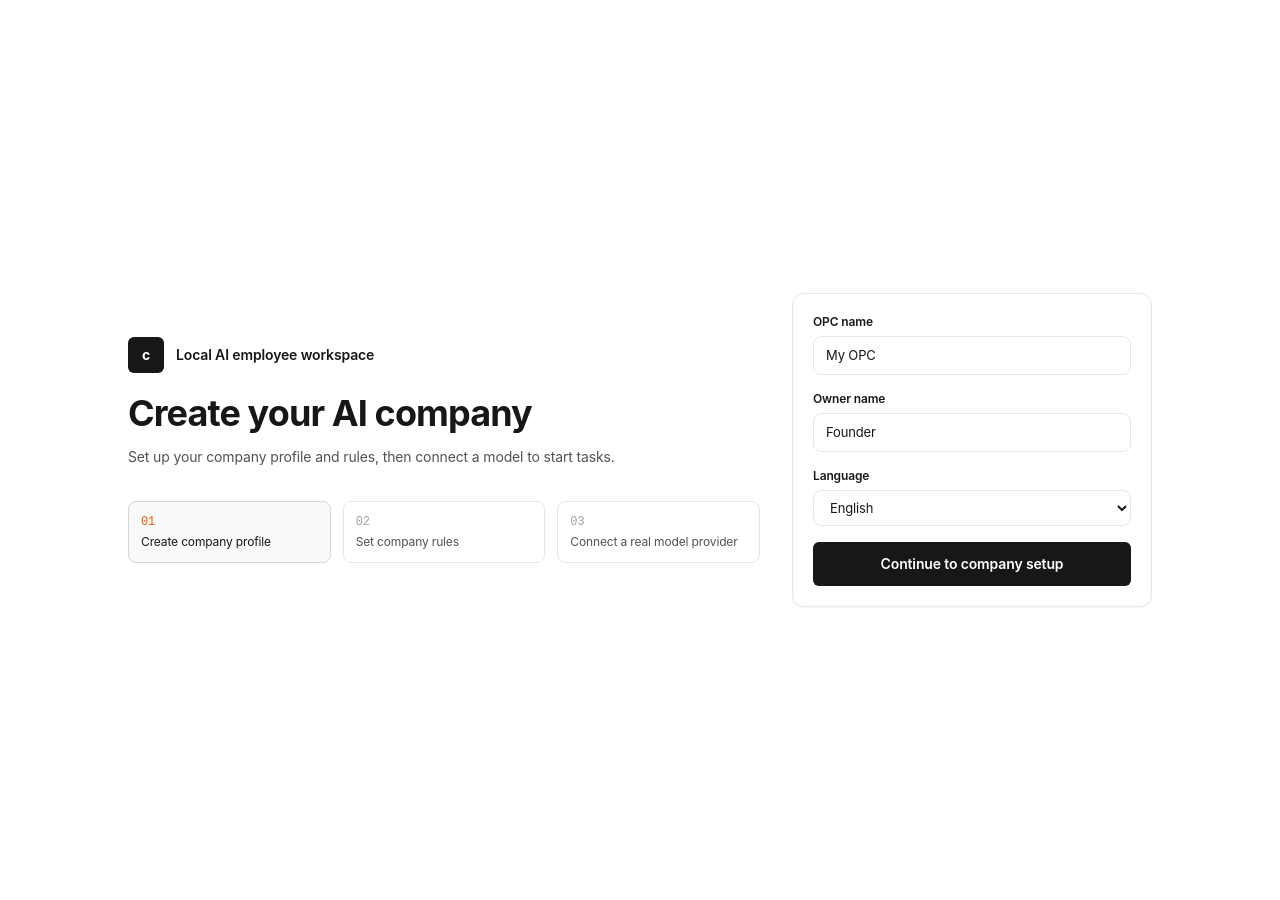
Desktop onboarding › allows company setup to finish before any employee exists
This screenshot has width=1280, height=900.
Click the button "Continue to company setup" at (972, 564), box [813, 542, 1131, 586]
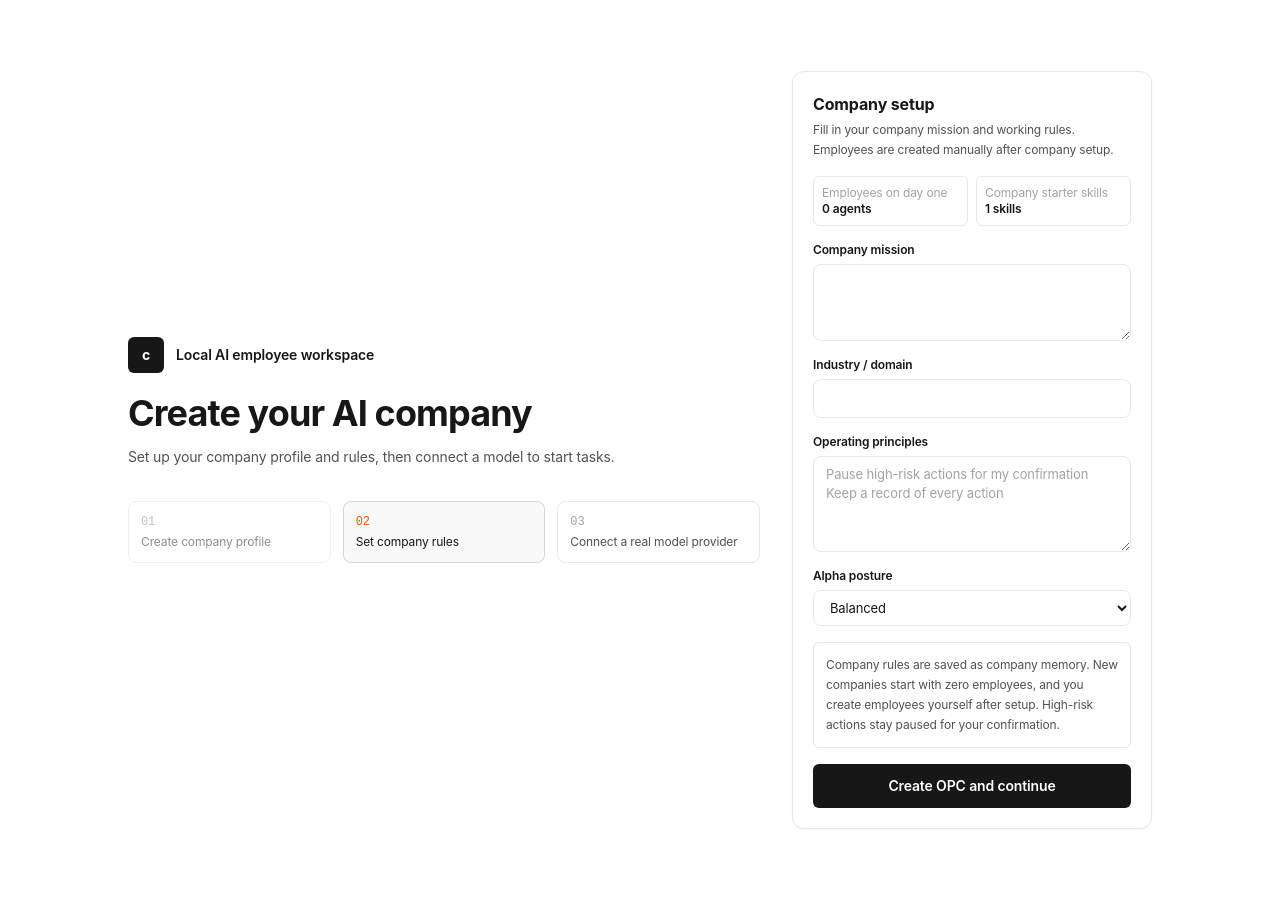
Expected: the heading "Company setup" is shown, [813, 94, 934, 114]
Click the button "Create OPC and continue" at (972, 786), box [813, 764, 1131, 808]
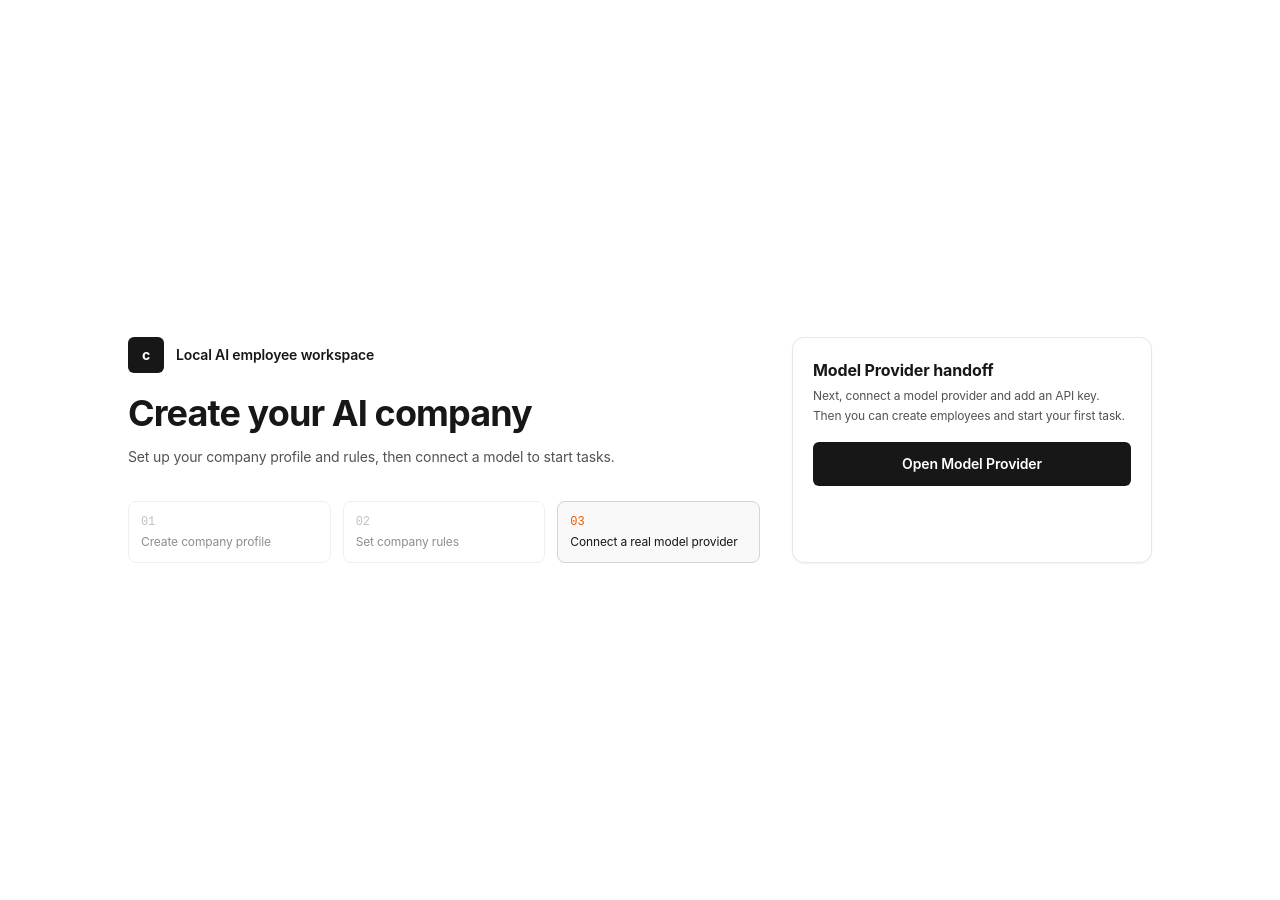
Expected: the heading "Model Provider handoff" is shown, [813, 360, 993, 380]
